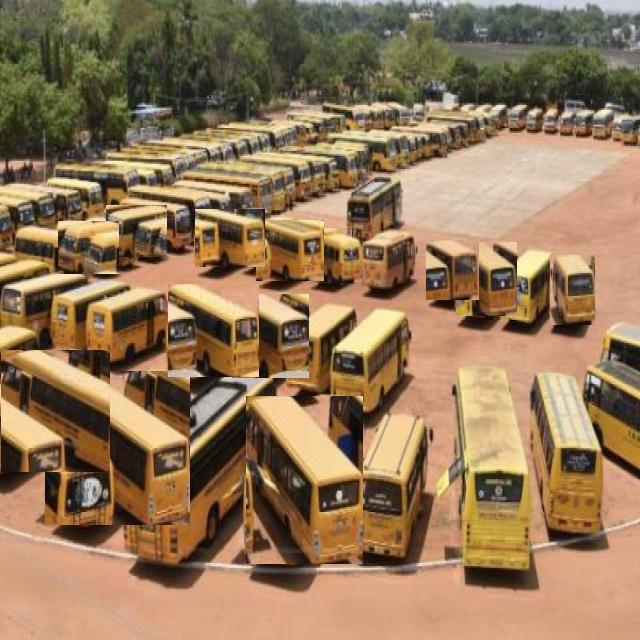bus: (121, 373, 280, 565), (45, 371, 190, 525), (246, 396, 362, 564), (454, 367, 530, 570), (1, 350, 109, 472), (531, 373, 601, 534), (354, 413, 432, 557), (168, 284, 259, 377), (331, 310, 410, 413), (0, 271, 86, 347), (232, 294, 309, 378), (86, 288, 169, 362), (286, 304, 356, 391), (584, 362, 640, 468), (51, 279, 130, 349), (456, 243, 516, 316), (15, 225, 94, 279), (256, 221, 324, 281), (500, 250, 555, 323), (195, 210, 264, 267), (58, 221, 119, 274), (426, 241, 479, 300), (550, 256, 595, 325), (361, 231, 415, 288), (106, 206, 166, 257), (311, 229, 361, 283)
